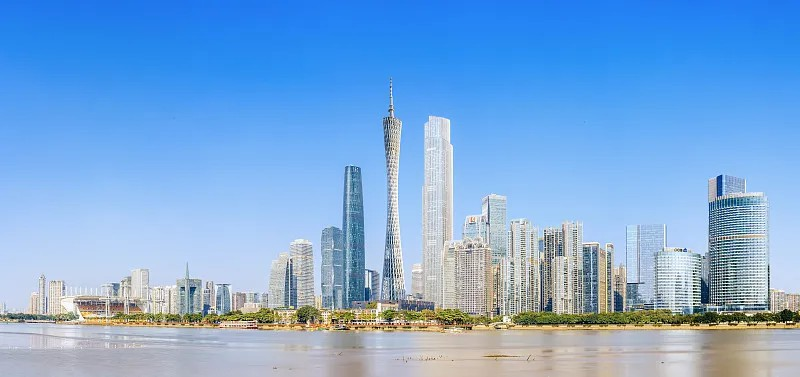Canton: (381, 72, 408, 302)
